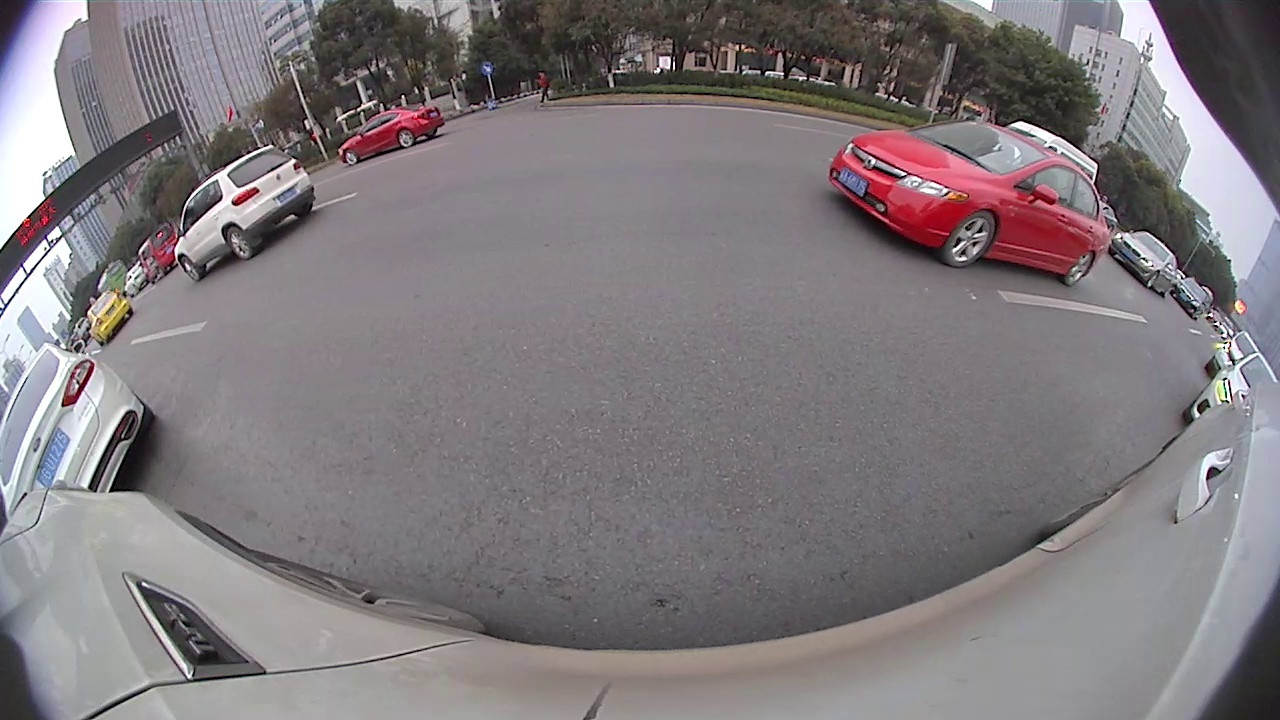car: (827, 125, 1112, 285), (3, 342, 154, 529), (178, 146, 317, 281), (338, 106, 444, 167), (1191, 355, 1279, 427), (1116, 230, 1176, 301), (90, 293, 133, 341), (143, 228, 179, 281)
front: (944, 209, 998, 268), (180, 258, 203, 282), (343, 147, 360, 165), (1146, 271, 1159, 290)
rear: (1063, 249, 1096, 287), (225, 227, 253, 259), (397, 127, 415, 148)
